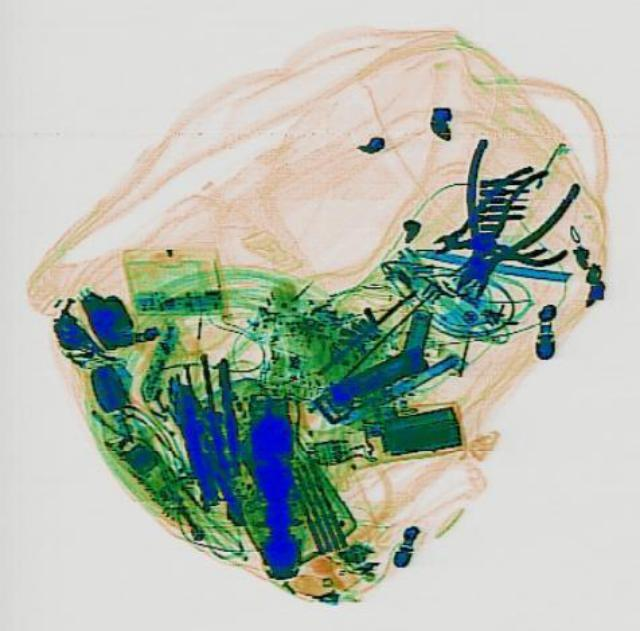Pliers: (408, 133, 582, 316), (416, 162, 566, 284)
